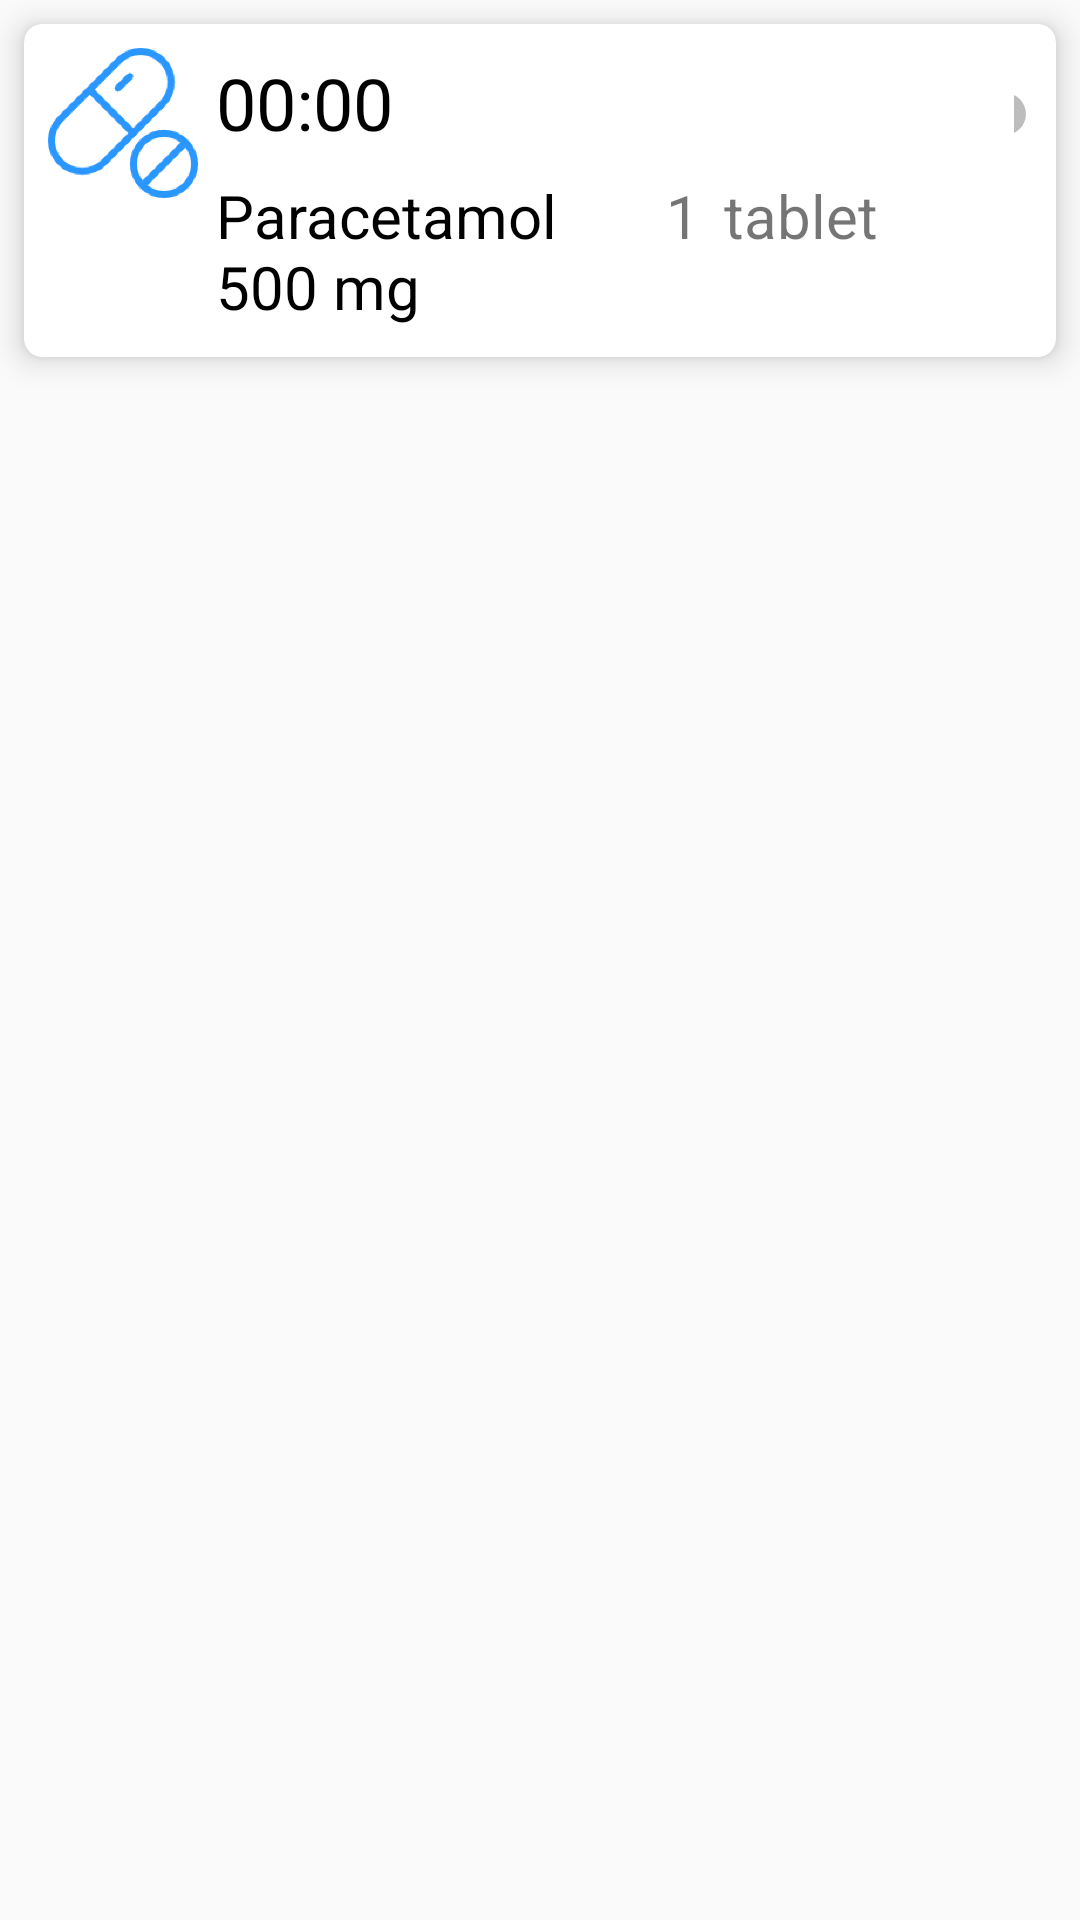

Icon click points for this 1080 × 1920 phone screenshot, format (x,y):
pill: (123,123)
